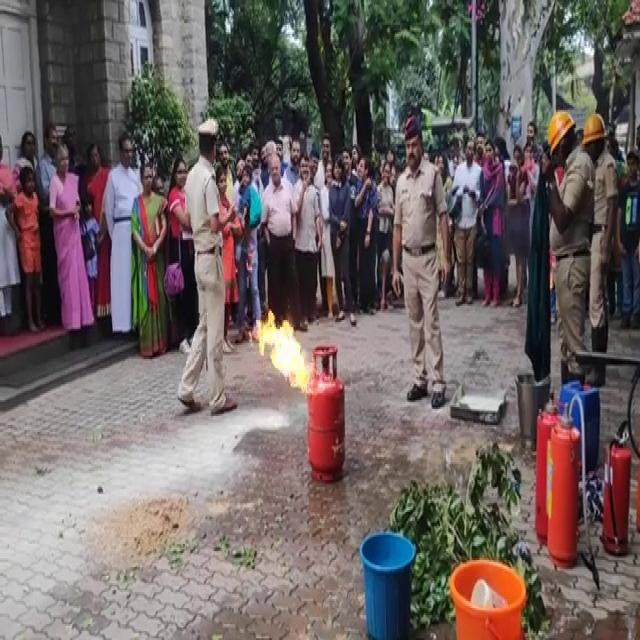fire: (248, 286, 322, 428)
